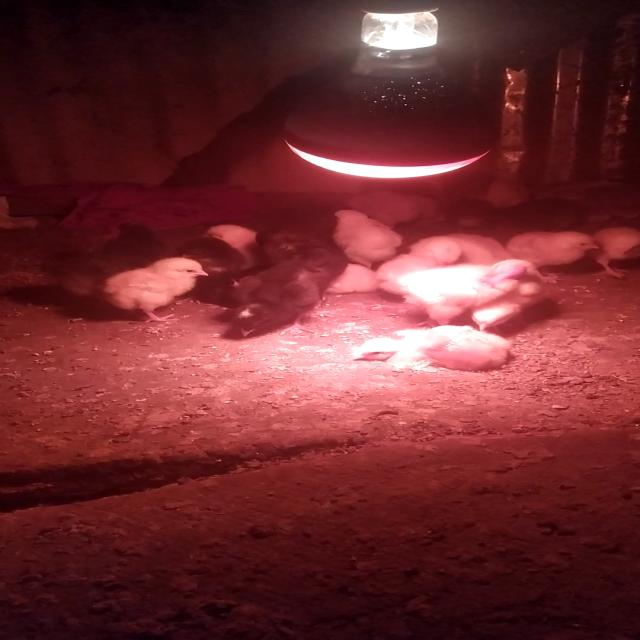chick: (399, 260, 543, 329), (352, 326, 511, 372), (233, 259, 324, 337), (103, 257, 207, 321), (261, 232, 344, 303), (332, 210, 402, 269), (406, 233, 512, 266), (505, 231, 597, 269), (350, 184, 425, 230), (102, 224, 168, 264), (595, 228, 639, 278), (206, 224, 256, 268), (327, 263, 382, 296)
objects: (281, 0, 497, 181)
